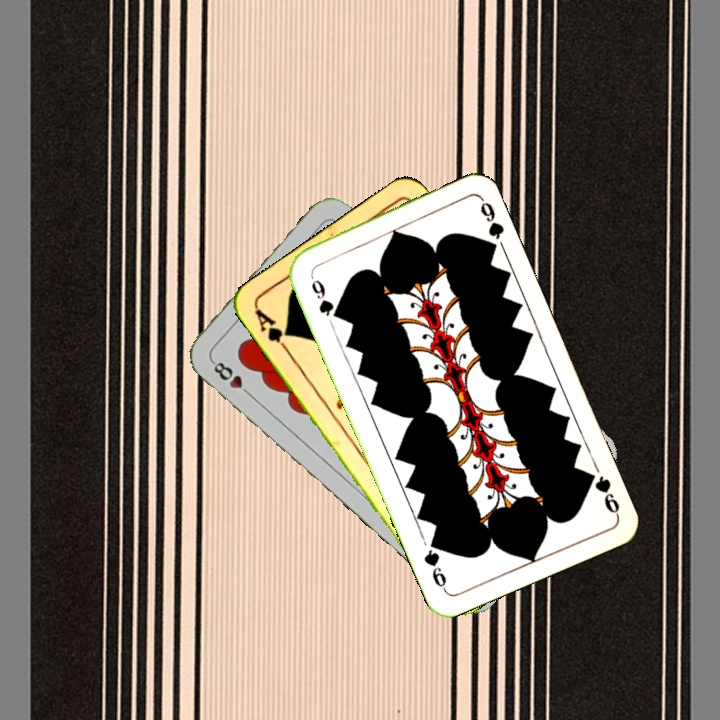G9: (581, 467, 622, 519), (305, 269, 342, 322)
GA: (250, 304, 293, 356)
H8: (207, 356, 256, 400)
